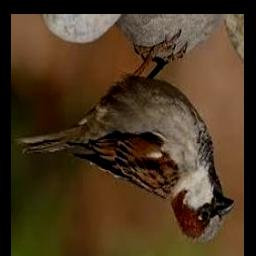Sparrow: (15, 31, 234, 242)
